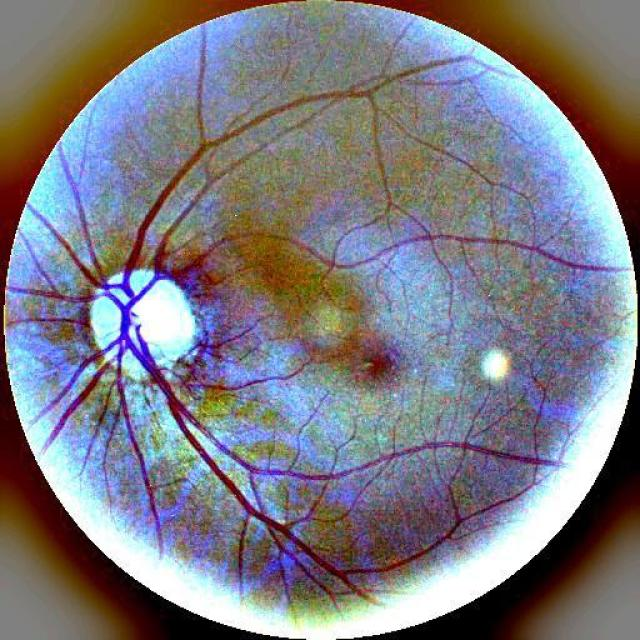Macula: (316, 307, 401, 403)
Nerves: (48, 76, 538, 589)
Optic Disk: (55, 252, 220, 405)
